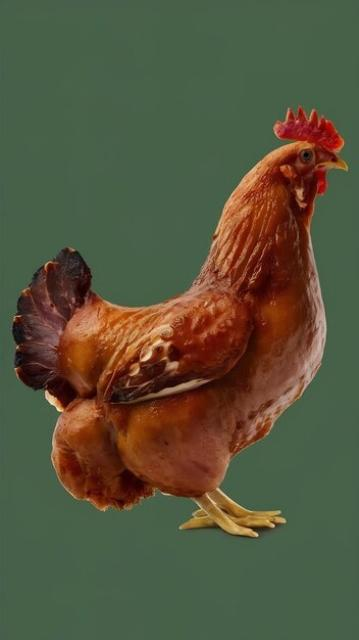Chicken: (10, 105, 350, 537)
